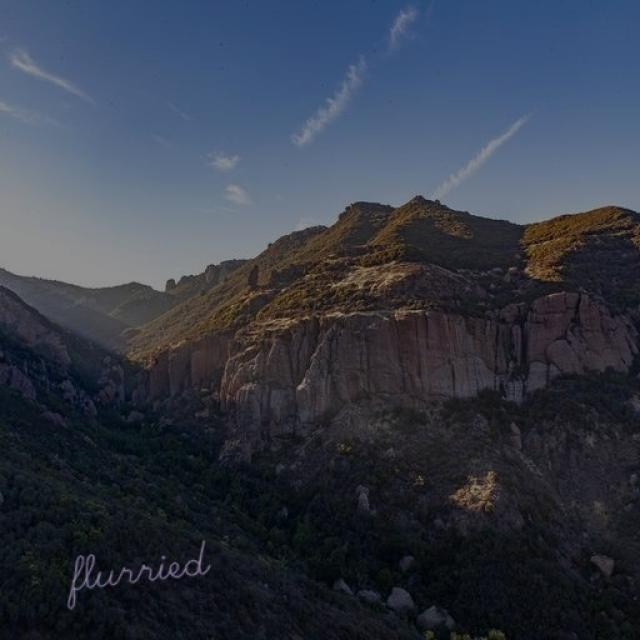watermark: (62, 536, 210, 598)
